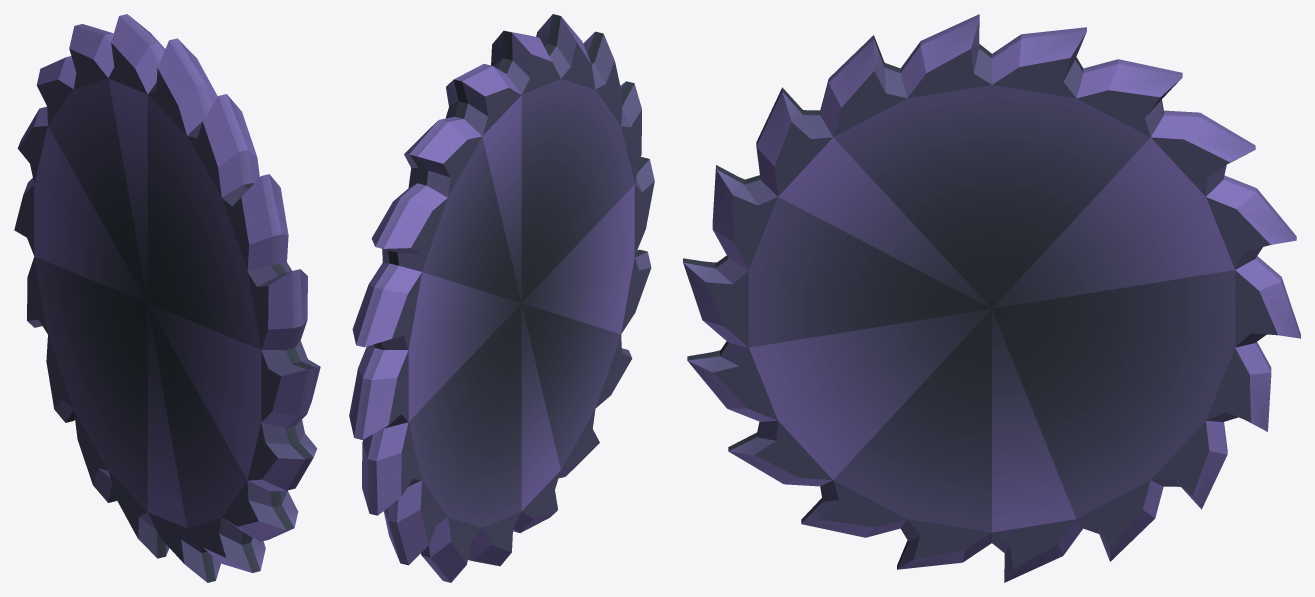
The model's file is undead_saw_blade.fbx.
The picture shows the model from 3 angles, left to right: view 1: azimuth 30°, elevation 25°; view 2: azimuth 150°, elevation 25°; view 3: azimuth 270°, elevation 25°; orthographic projection. The views are drawn at different scales.
Visible parts, largest first — view 1: undead_saw_blade; view 2: undead_saw_blade; view 3: undead_saw_blade.
Boxes of the visible parts, x1=… form: undead_saw_blade: x1=14, y1=14, x2=320, y2=582; undead_saw_blade: x1=349, y1=14, x2=654, y2=582; undead_saw_blade: x1=683, y1=14, x2=1300, y2=582.
Size of the model in its own units: 0.4192 by 5.35 by 5.3.
